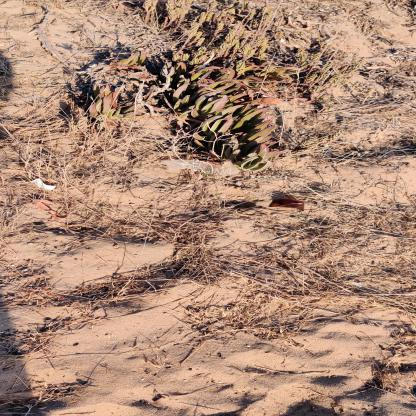Broken glass: (268, 199, 304, 211), (253, 213, 268, 217)
Plastic film: (161, 160, 240, 177), (297, 156, 313, 166)
Unlabeled litter: (33, 178, 57, 190)
